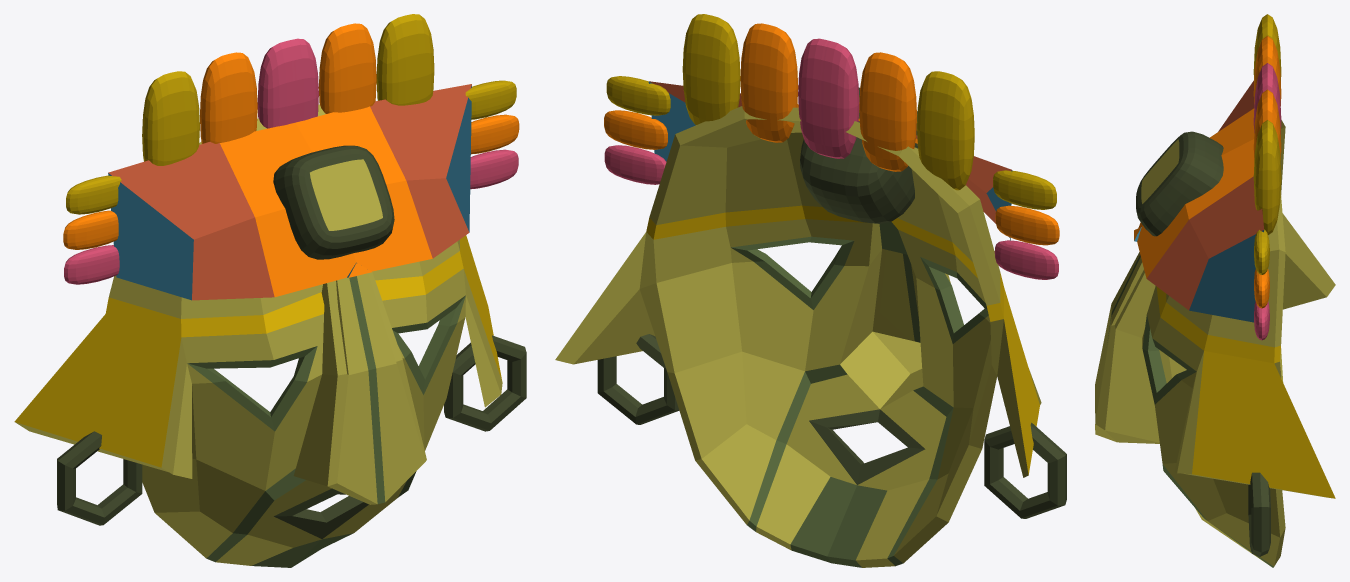
The model's file is AztecMask.fbx.
3 views of the same model, side by side, from view 1: azimuth 30°, elevation 25°; view 2: azimuth 150°, elevation 25°; view 3: azimuth 270°, elevation 25° (orthographic). The views are drawn at different scales.
Parts seen in each view (by area): view 1: Base, Headband, Feathers, HeadbandDecoration, Sides, Torus; view 2: Base, Feathers, Sides, Torus, HeadbandDecoration, Headband; view 3: Base, Headband, HeadbandDecoration, Feathers, Torus, Sides.
Part boxes in pixels (bbox=[...]): Base: bbox=[14, 104, 502, 567]; Headband: bbox=[108, 84, 471, 300]; Feathers: bbox=[142, 14, 434, 165]; HeadbandDecoration: bbox=[273, 145, 394, 259]; Sides: bbox=[63, 80, 519, 284]; Torus: bbox=[57, 335, 526, 525]; Base: bbox=[555, 106, 1041, 567]; Feathers: bbox=[682, 14, 974, 190]; Sides: bbox=[604, 76, 1059, 279]; Torus: bbox=[597, 334, 1066, 518]; HeadbandDecoration: bbox=[800, 87, 917, 223]; Headband: bbox=[648, 81, 1012, 240]; Base: bbox=[1095, 120, 1335, 567]; Headband: bbox=[1134, 80, 1264, 322]; HeadbandDecoration: bbox=[1136, 131, 1223, 236]; Feathers: bbox=[1253, 14, 1281, 234]; Torus: bbox=[1248, 472, 1270, 556]; Sides: bbox=[1254, 229, 1269, 340].
Size of the model in its own units: 195 by 207 by 92.54.
